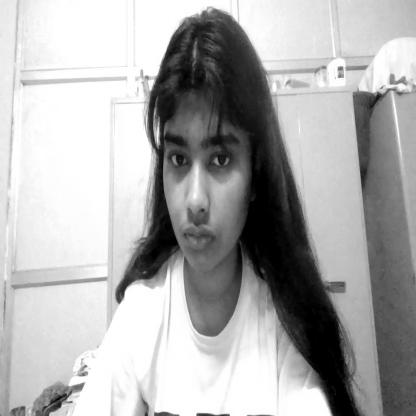Normal: (150, 16, 264, 276)
